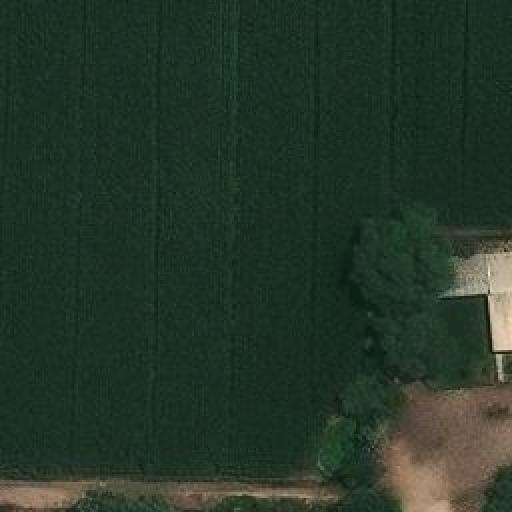manzanas: (439, 251, 510, 387)
